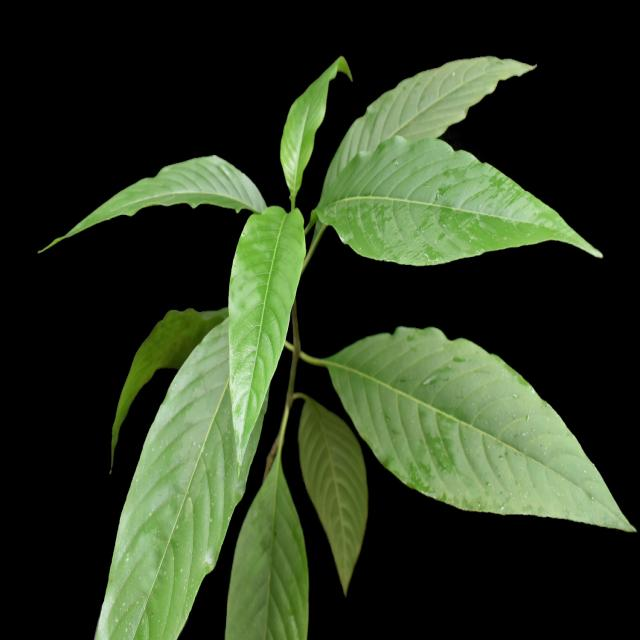Malabar Nut: (91, 90, 574, 640)
